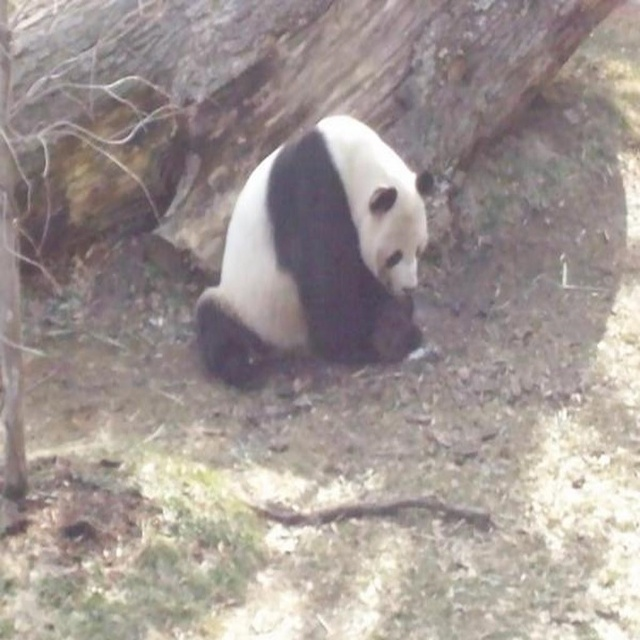Panda: (201, 120, 423, 389)
